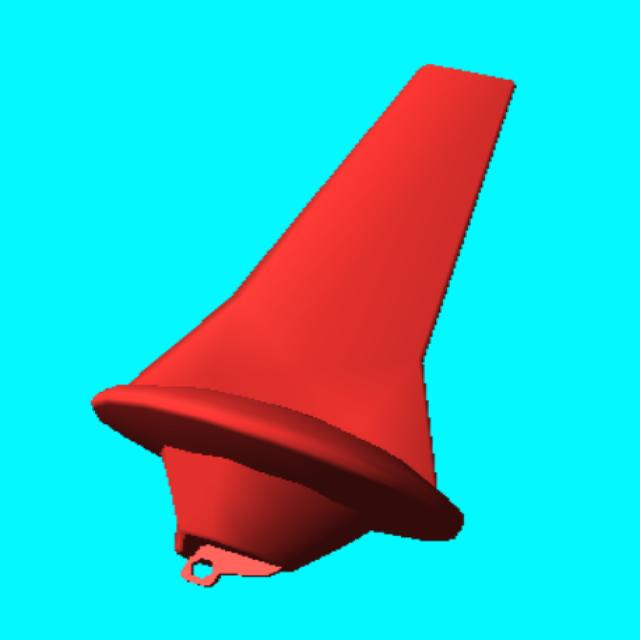RedBuoy: (93, 66, 514, 586)
